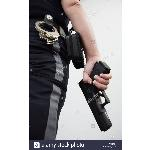Pistol: (77, 61, 113, 132)
